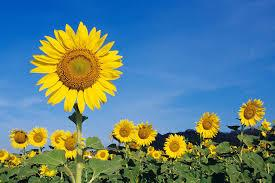sunflower: (29, 20, 123, 113)
